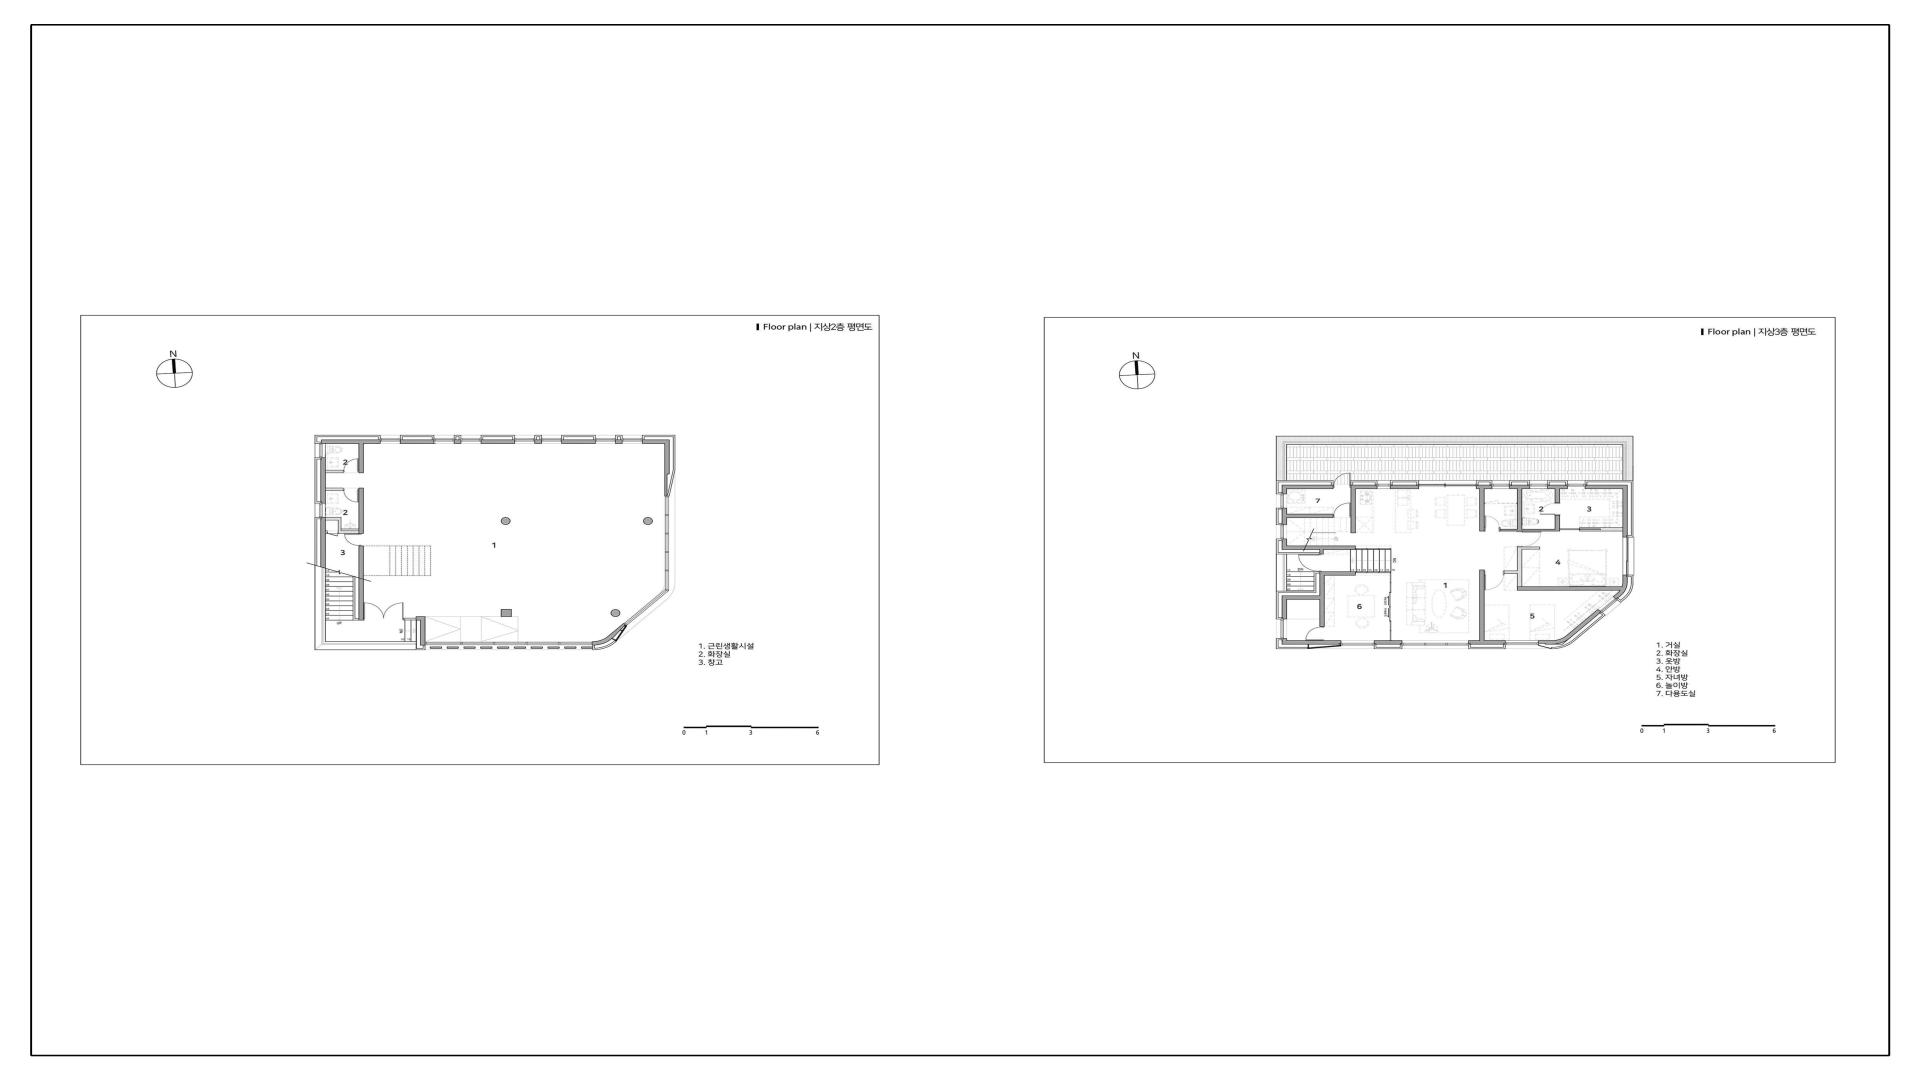door: (364, 603, 404, 620), (1516, 531, 1542, 547), (1485, 571, 1505, 591), (1299, 554, 1321, 571), (1333, 472, 1350, 488), (1540, 502, 1560, 516), (1333, 502, 1350, 517), (1305, 626, 1324, 640), (1485, 516, 1499, 531), (344, 534, 361, 546), (344, 489, 359, 502), (344, 459, 359, 472), (1390, 574, 1391, 641), (1560, 529, 1580, 530)
wall: (1539, 609, 1602, 645), (592, 624, 625, 645), (1518, 587, 1622, 591), (1480, 570, 1485, 640), (1613, 575, 1627, 600), (320, 517, 326, 568), (359, 488, 364, 534), (320, 458, 326, 504), (1282, 641, 1341, 645), (322, 439, 381, 443), (1350, 489, 1356, 533), (1480, 489, 1485, 531), (359, 578, 364, 620), (1516, 547, 1522, 587), (1623, 489, 1627, 537), (1287, 514, 1333, 518), (1287, 485, 1333, 489), (359, 546, 364, 579), (1580, 527, 1622, 531), (1585, 485, 1627, 489), (665, 443, 670, 475), (1499, 529, 1560, 531), (359, 443, 364, 473), (1518, 489, 1522, 529), (1287, 596, 1325, 600), (1469, 641, 1506, 645), (1320, 600, 1325, 626), (562, 439, 596, 443), (1320, 571, 1325, 596), (1287, 546, 1320, 550), (401, 439, 434, 443), (481, 439, 514, 443), (1282, 596, 1287, 620), (1324, 546, 1356, 550), (421, 621, 426, 645), (1325, 571, 1356, 575), (1390, 485, 1419, 489), (1350, 485, 1378, 489), (1374, 641, 1402, 645), (642, 439, 670, 443), (1356, 571, 1391, 574), (1282, 508, 1287, 525), (1547, 485, 1568, 489), (1510, 485, 1530, 489), (1555, 516, 1560, 529), (1555, 489, 1560, 502), (1476, 485, 1493, 489), (326, 469, 343, 473), (342, 530, 359, 534), (326, 517, 342, 521), (1282, 539, 1287, 550), (665, 475, 667, 496), (338, 521, 342, 534), (1522, 547, 1540, 550), (1282, 485, 1287, 495), (1356, 549, 1391, 550), (326, 488, 343, 491), (415, 616, 426, 620), (1505, 571, 1518, 574), (1320, 546, 1324, 554), (454, 439, 462, 443), (534, 439, 542, 443), (616, 439, 622, 443), (404, 618, 415, 620), (1282, 638, 1287, 641)
window: (624, 589, 669, 625), (1419, 480, 1476, 489), (1403, 641, 1469, 649), (426, 642, 592, 645), (1598, 597, 1621, 616), (1623, 537, 1634, 575), (1341, 641, 1374, 649), (1506, 641, 1539, 649), (666, 496, 669, 591), (1276, 620, 1287, 638), (1493, 480, 1510, 489), (1530, 480, 1547, 489), (1568, 480, 1585, 489), (462, 435, 481, 443), (542, 435, 562, 443), (596, 435, 616, 443), (622, 435, 642, 443), (381, 435, 400, 443), (516, 435, 534, 443), (435, 435, 454, 443), (1276, 525, 1287, 538), (1276, 495, 1287, 508), (315, 504, 326, 517), (315, 444, 326, 458), (1378, 480, 1390, 489)
